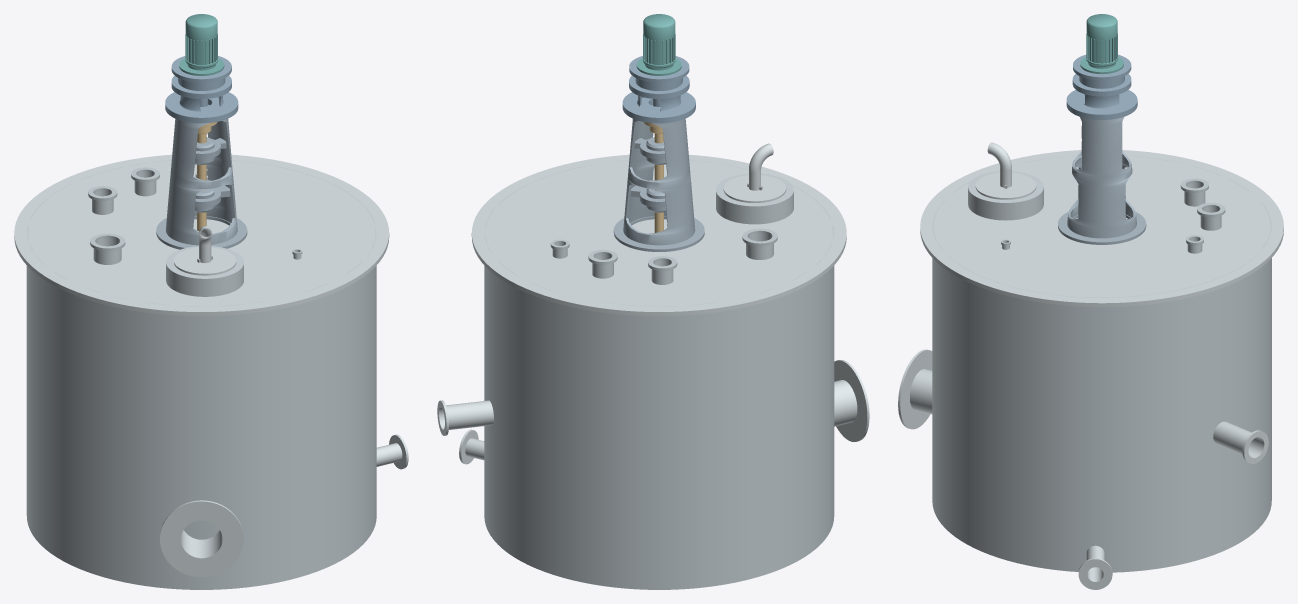
3 renders of one model, left to right at view 1: azimuth 30°, elevation 25°; view 2: azimuth 150°, elevation 25°; view 3: azimuth 270°, elevation 25°, orthographic. The views are drawn at different scales.
Parts seen in each view (by area): view 1: 本体_筒壳, 槽盖_盖板, 支架_06_Tapered_window_frame_with_bored_seats, 接口_西南检修法兰, 接口_人孔座圈, 驱动_01_Motor, 接口_人孔盖, 驱动_02_Base_flange_top, 支架_06_Frame_foot, 接口_西南检修接管, 驱动_02_Upper_mount_flange, 接口_顶盖接管01 (+1 smaller); view 2: 本体_筒壳, 槽盖_盖板, 支架_06_Tapered_window_frame_with_bored_seats, 接口_人孔座圈, 驱动_01_Motor, 接口_西南检修法兰, 接口_人孔盖, 驱动_02_Base_flange_top, 接口_东北侧接管, 支架_06_Frame_foot, 接口_西南检修接管, 驱动_02_Upper_mount_flange (+1 smaller); view 3: 本体_筒壳, 槽盖_盖板, 支架_06_Tapered_window_frame_with_bored_seats, 接口_人孔座圈, 驱动_01_Motor, 接口_西南检修法兰, 接口_人孔盖, 驱动_02_Base_flange_top, 接口_东北侧接管, 支架_06_Frame_foot, 接口_西南检修接管, 接口_东侧低位法兰 (+1 smaller).
Boxes of the visible parts, x1,y1,x2,y2 form: 本体_筒壳: (26, 160, 376, 589); 槽盖_盖板: (14, 154, 389, 316); 支架_06_Tapered_window_frame_with_bored_seats: (165, 104, 237, 245); 接口_西南检修法兰: (160, 500, 243, 577); 接口_人孔座圈: (166, 246, 243, 296); 驱动_01_Motor: (179, 14, 224, 75); 接口_人孔盖: (174, 247, 236, 275); 驱动_02_Base_flange_top: (165, 92, 238, 120); 支架_06_Frame_foot: (156, 216, 247, 249); 接口_西南检修接管: (181, 530, 222, 557); 驱动_02_Upper_mount_flange: (171, 56, 231, 82); 接口_顶盖接管01: (93, 238, 121, 264); 本体_筒壳: (484, 160, 834, 589); 槽盖_盖板: (471, 154, 846, 316); 支架_06_Tapered_window_frame_with_bored_seats: (623, 104, 695, 245); 接口_人孔座圈: (716, 173, 793, 224); 驱动_01_Motor: (636, 14, 681, 75); 接口_西南检修法兰: (834, 360, 869, 441); 接口_人孔盖: (723, 175, 786, 202); 驱动_02_Base_flange_top: (622, 92, 695, 120); 接口_东北侧接管: (441, 400, 493, 429); 支架_06_Frame_foot: (613, 216, 704, 251); 接口_西南检修接管: (834, 380, 857, 426); 驱动_02_Upper_mount_flange: (629, 56, 689, 82); 本体_筒壳: (932, 155, 1271, 572); 槽盖_盖板: (920, 150, 1283, 307); 支架_06_Tapered_window_frame_with_bored_seats: (1067, 117, 1136, 238); 接口_人孔座圈: (968, 171, 1043, 220); 驱动_01_Motor: (1080, 14, 1123, 74); 接口_西南检修法兰: (898, 349, 932, 429); 接口_人孔盖: (975, 172, 1036, 199); 驱动_02_Base_flange_top: (1066, 90, 1137, 117); 接口_东北侧接管: (1213, 421, 1262, 457); 支架_06_Frame_foot: (1058, 211, 1146, 244); 接口_西南检修接管: (910, 369, 932, 414); 接口_东侧低位法兰: (1078, 558, 1112, 589).
Bounding box in the file's own units: 3.3 × 4.38 × 3.18.
